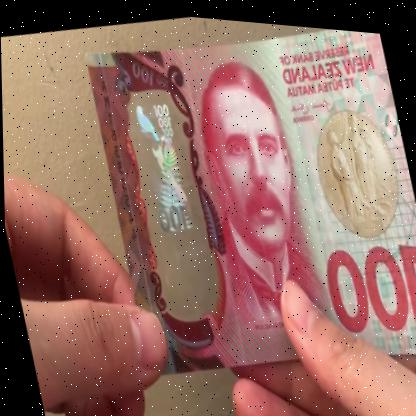100F: (126, 86, 212, 299)
